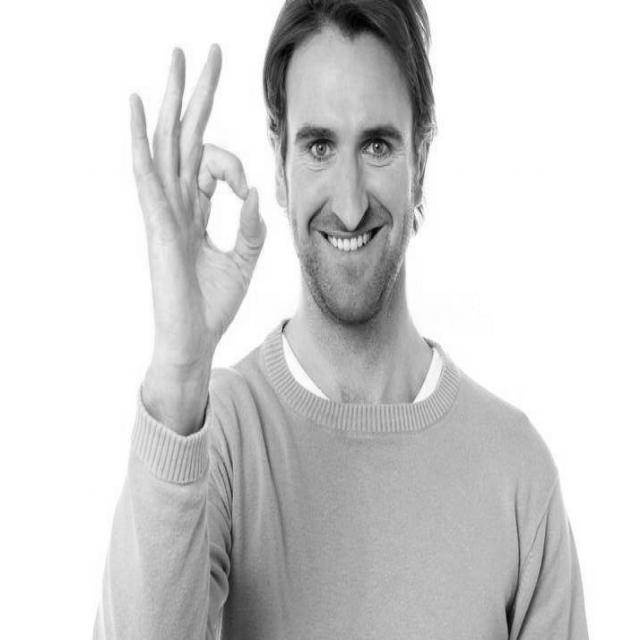perfect: (124, 36, 271, 369)
